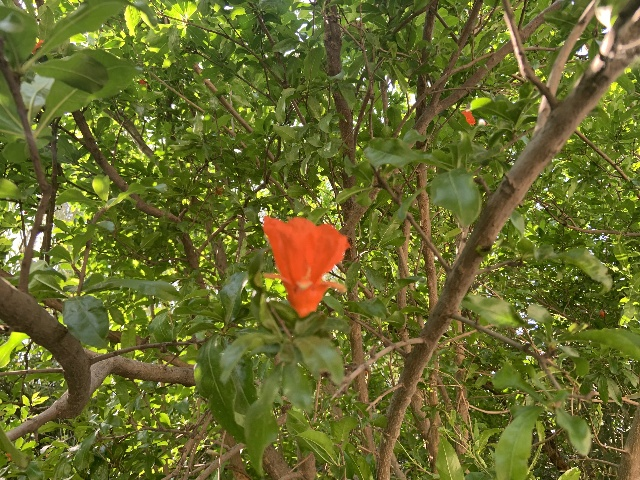bud: (599, 310, 604, 317)
flower: (262, 213, 350, 317), (461, 110, 476, 125), (32, 38, 43, 53), (214, 186, 223, 196), (138, 79, 147, 85)
